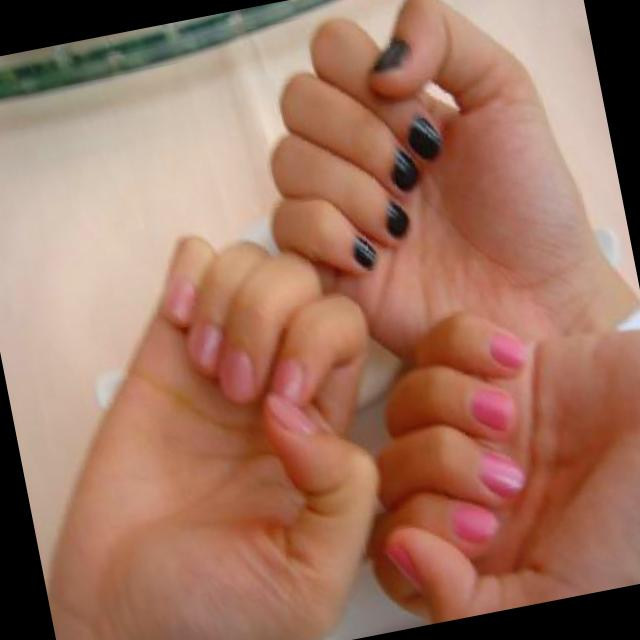Person: (0, 187, 437, 640), (217, 0, 640, 383), (317, 275, 640, 633)
